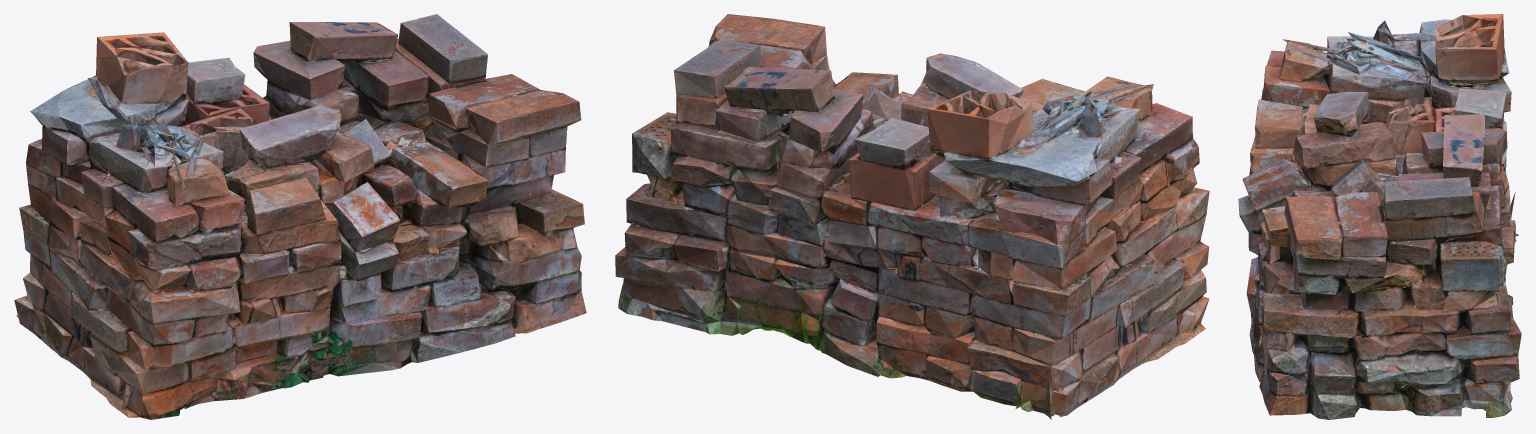
3 views of the same model, side by side, from view 1: azimuth 30°, elevation 25°; view 2: azimuth 150°, elevation 25°; view 3: azimuth 270°, elevation 25° (orthographic). The views are drawn at different scales.
Visible parts, largest first — view 1: Stack of Bricks; view 2: Stack of Bricks; view 3: Stack of Bricks.
Boxes of the visible parts, x1,y1,x2,y2 form: Stack of Bricks: [14, 14, 586, 419]; Stack of Bricks: [615, 14, 1209, 419]; Stack of Bricks: [1238, 14, 1521, 419].
Bounding box in the file's own units: 3.41 × 1.91 × 2.01.
Materials: 1 (1 with a texture image).
